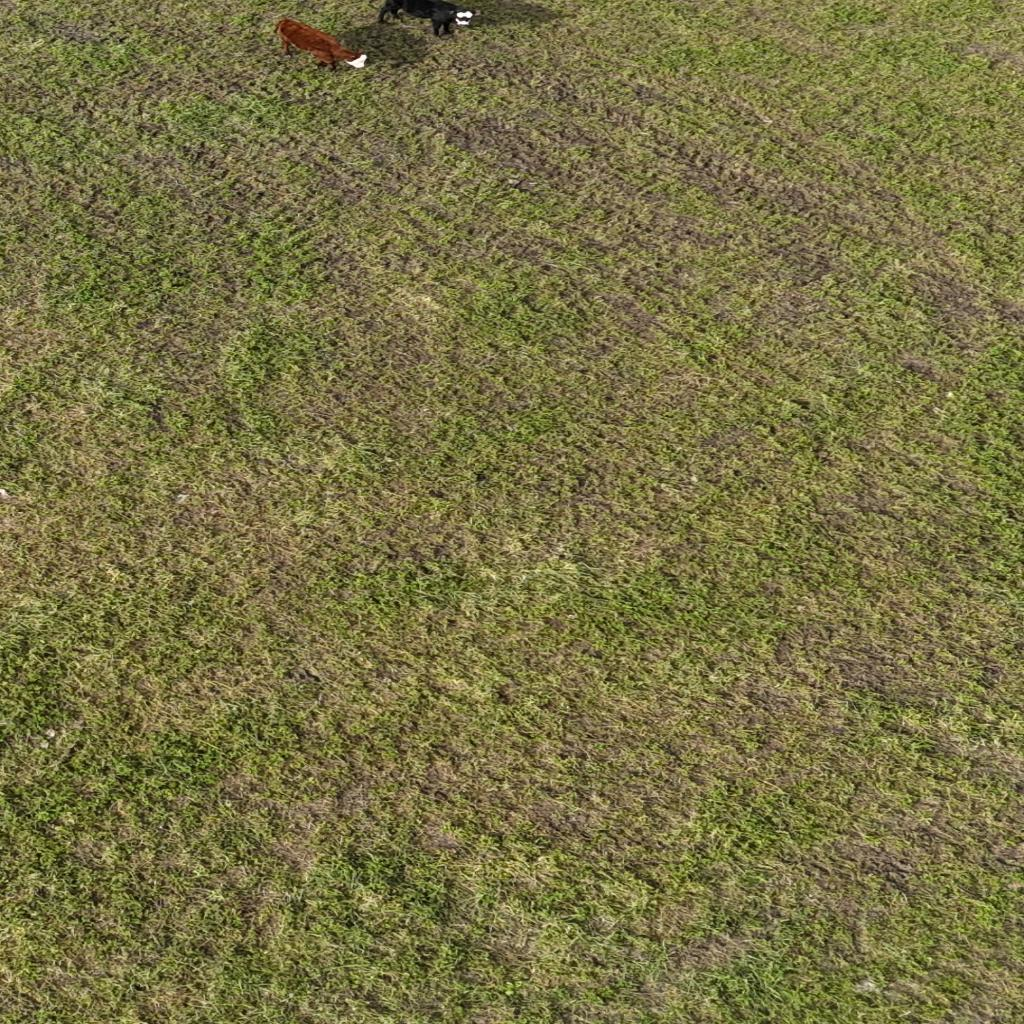cow: (273, 18, 370, 72), (374, 0, 474, 38)
